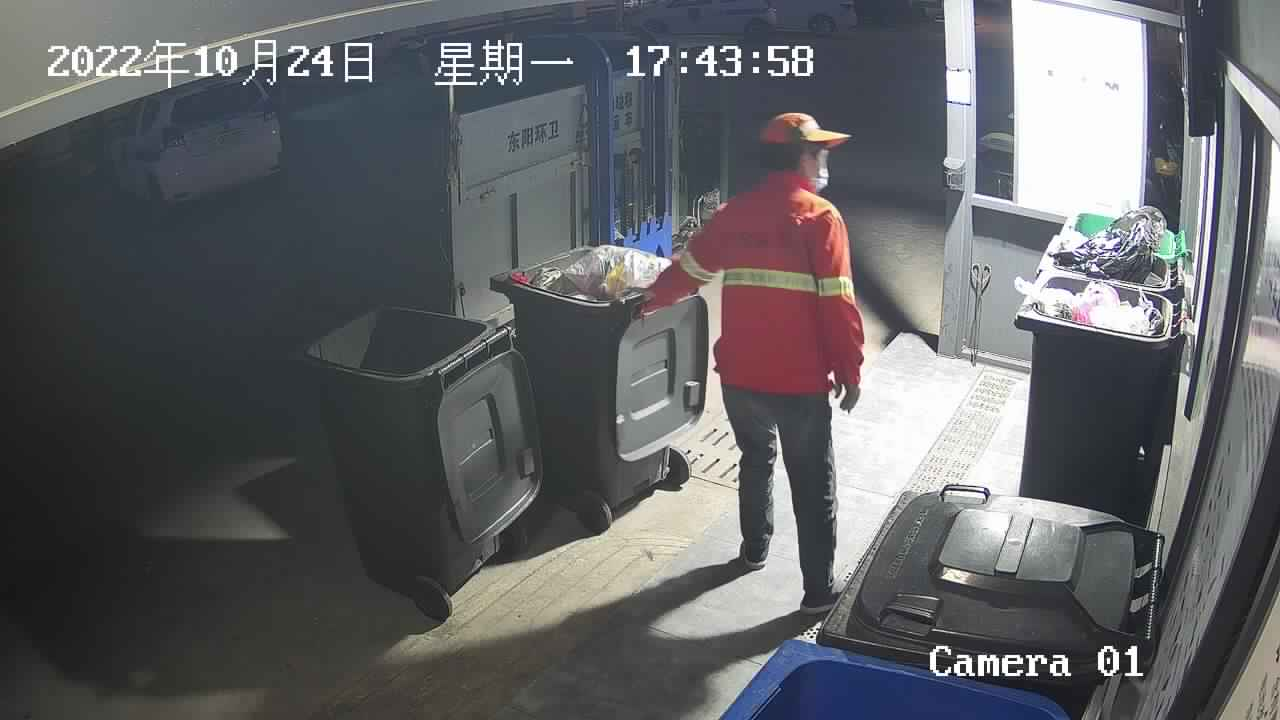worker: (632, 110, 867, 614)
